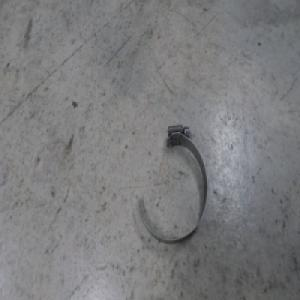AdjustableClamp: (136, 125, 208, 244)
